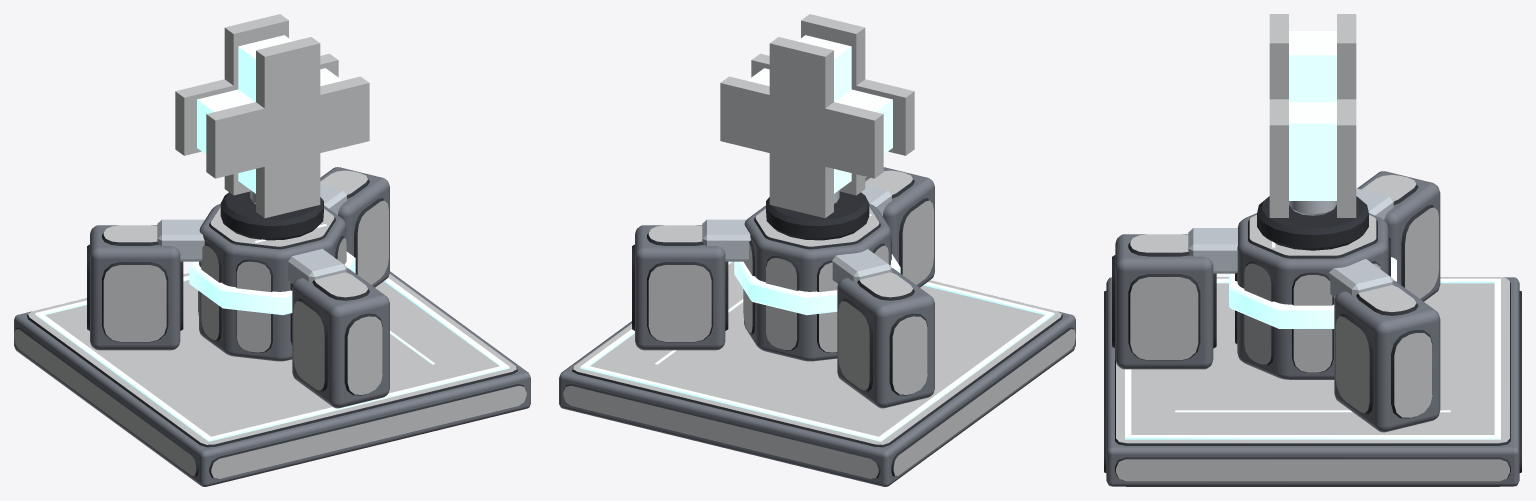
Rendered from R4X_RepairTurretDeployer.fbx.
3 renders of one model, left to right at view 1: azimuth 30°, elevation 25°; view 2: azimuth 150°, elevation 25°; view 3: azimuth 270°, elevation 25°, orthographic. The views are drawn at different scales.
Parts seen in each view (by area): view 1: R4X_RepairTurretDeployer_Body, R4X_RepairTurretDeployer_Pod; view 2: R4X_RepairTurretDeployer_Body, R4X_RepairTurretDeployer_Pod; view 3: R4X_RepairTurretDeployer_Body, R4X_RepairTurretDeployer_Pod.
Part boxes in pixels (x1,y1,x2,y2): R4X_RepairTurretDeployer_Body: (14,167,530,486); R4X_RepairTurretDeployer_Pod: (175,14,369,361); R4X_RepairTurretDeployer_Body: (559,167,1075,486); R4X_RepairTurretDeployer_Pod: (720,14,914,361); R4X_RepairTurretDeployer_Body: (1104,171,1521,486); R4X_RepairTurretDeployer_Pod: (1229,14,1396,379).
Size of the model in its own units: 0.52 by 0.515 by 0.52.
